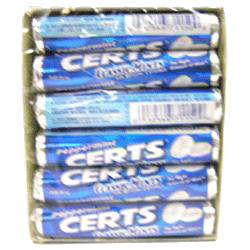grozi_23: (21, 7, 226, 244)
